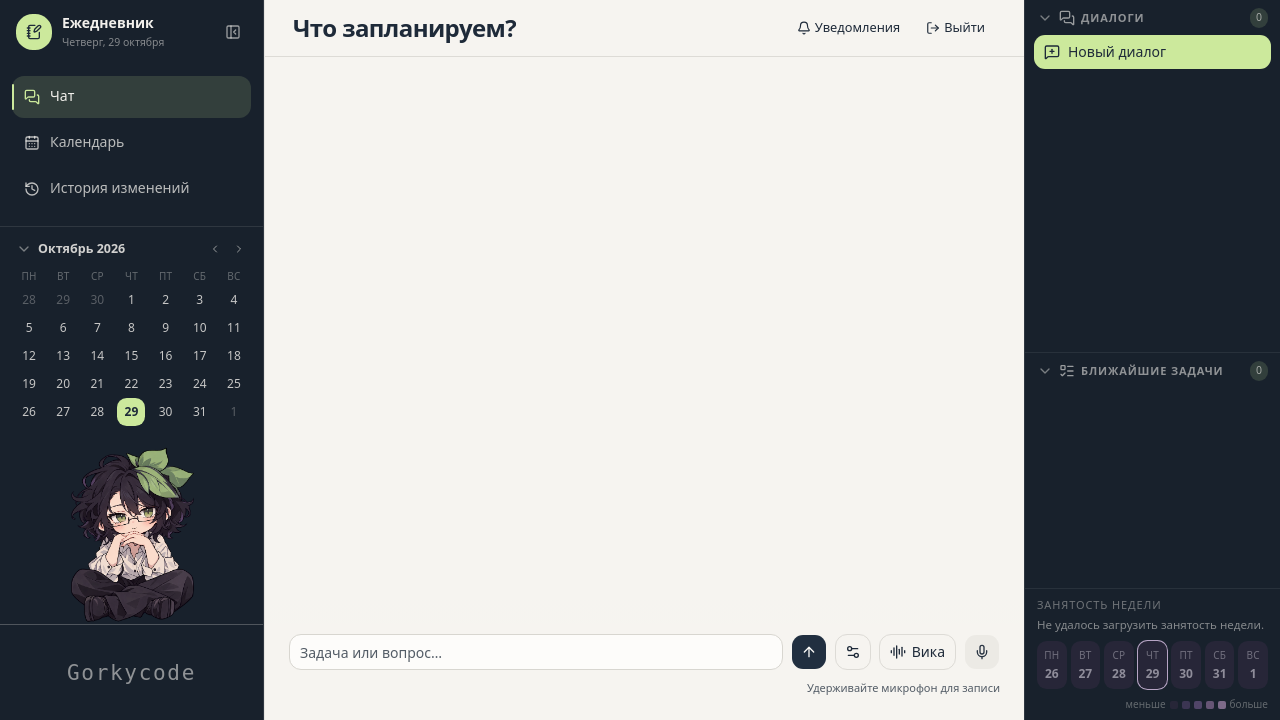
Test: planner chat › renders a message received by the hands-free session
The image size is (1280, 720).
Click the button with aria-label "Включить open-air режим Вика" at (917, 652), box [879, 634, 956, 670]
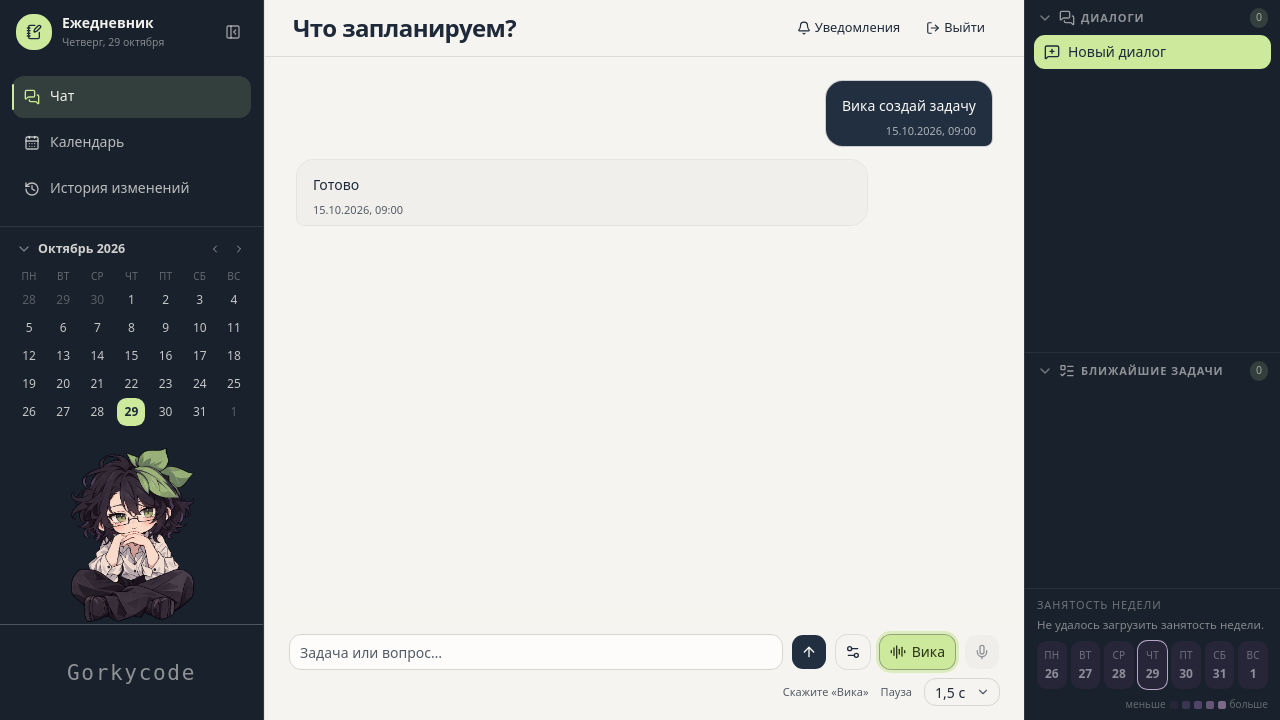
Expected: the text "Вика создай задачу" is shown, [842, 95, 976, 118]
Expected: the text "Готово" is shown, [313, 175, 359, 194]
